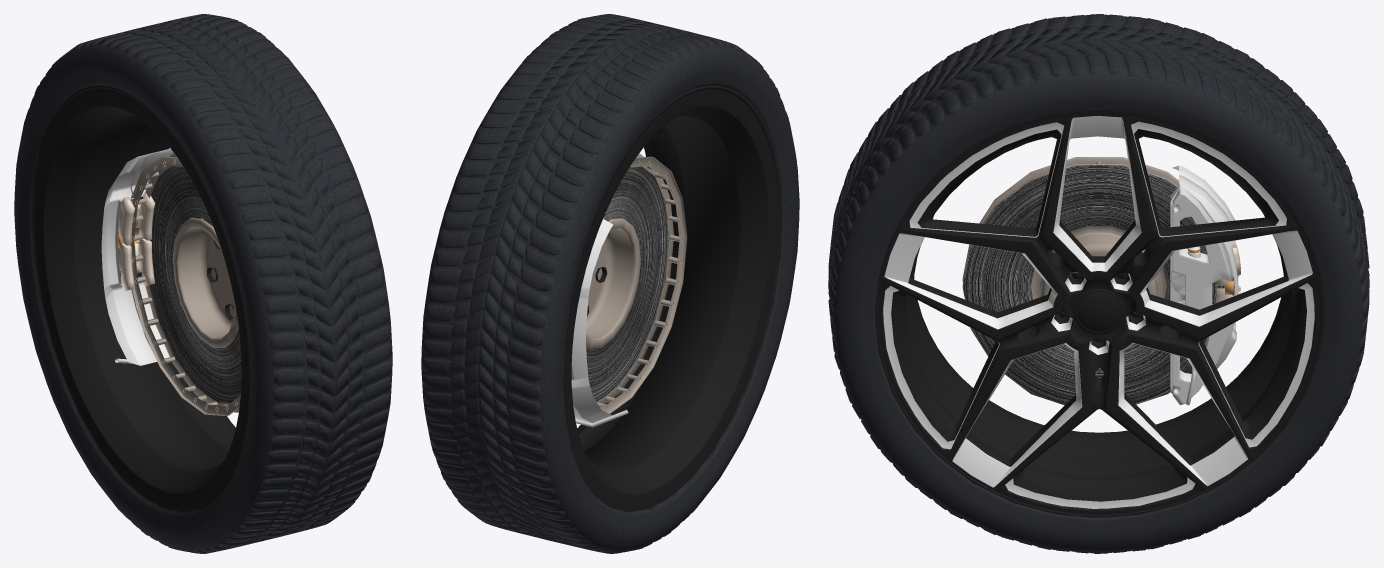
File: eb07de89-63b7-45f4-9c32-f9ddf3c958d7.glb
The picture shows the model from 3 angles, left to right: view 1: azimuth 30°, elevation 25°; view 2: azimuth 150°, elevation 25°; view 3: azimuth 270°, elevation 25°; orthographic projection. The views are drawn at different scales.
Visible parts, largest first — view 1: Tires, Sports Car_Rims, Sports Car_Brake Disk, Sports Car_Brake Calliper, Sports Car_Brake Pads; view 2: Tires, Sports Car_Rims, Sports Car_Brake Disk, Sports Car_Brake Calliper; view 3: Sports Car_Rims, Tires, Sports Car_Brake Disk, Sports Car_Brake Calliper.
Part boxes in pixels (left/top/right/bottom): Tires: left=14, top=14, right=392, bottom=553; Sports Car_Rims: left=31, top=85, right=250, bottom=513; Sports Car_Brake Disk: left=130, top=153, right=241, bottom=415; Sports Car_Brake Calliper: left=101, top=148, right=173, bottom=365; Sports Car_Brake Pads: left=118, top=192, right=155, bottom=291; Tires: left=421, top=14, right=799, bottom=553; Sports Car_Rims: left=563, top=85, right=781, bottom=513; Sports Car_Brake Disk: left=586, top=153, right=687, bottom=413; Sports Car_Brake Calliper: left=571, top=219, right=613, bottom=422; Sports Car_Rims: left=875, top=112, right=1322, bottom=517; Tires: left=828, top=14, right=1369, bottom=553; Sports Car_Brake Disk: left=962, top=157, right=1234, bottom=405; Sports Car_Brake Calliper: left=1170, top=165, right=1238, bottom=405.
Size of the model in its own units: 0.1817 by 0.6314 by 0.6314.
9 materials, 2 textured.
